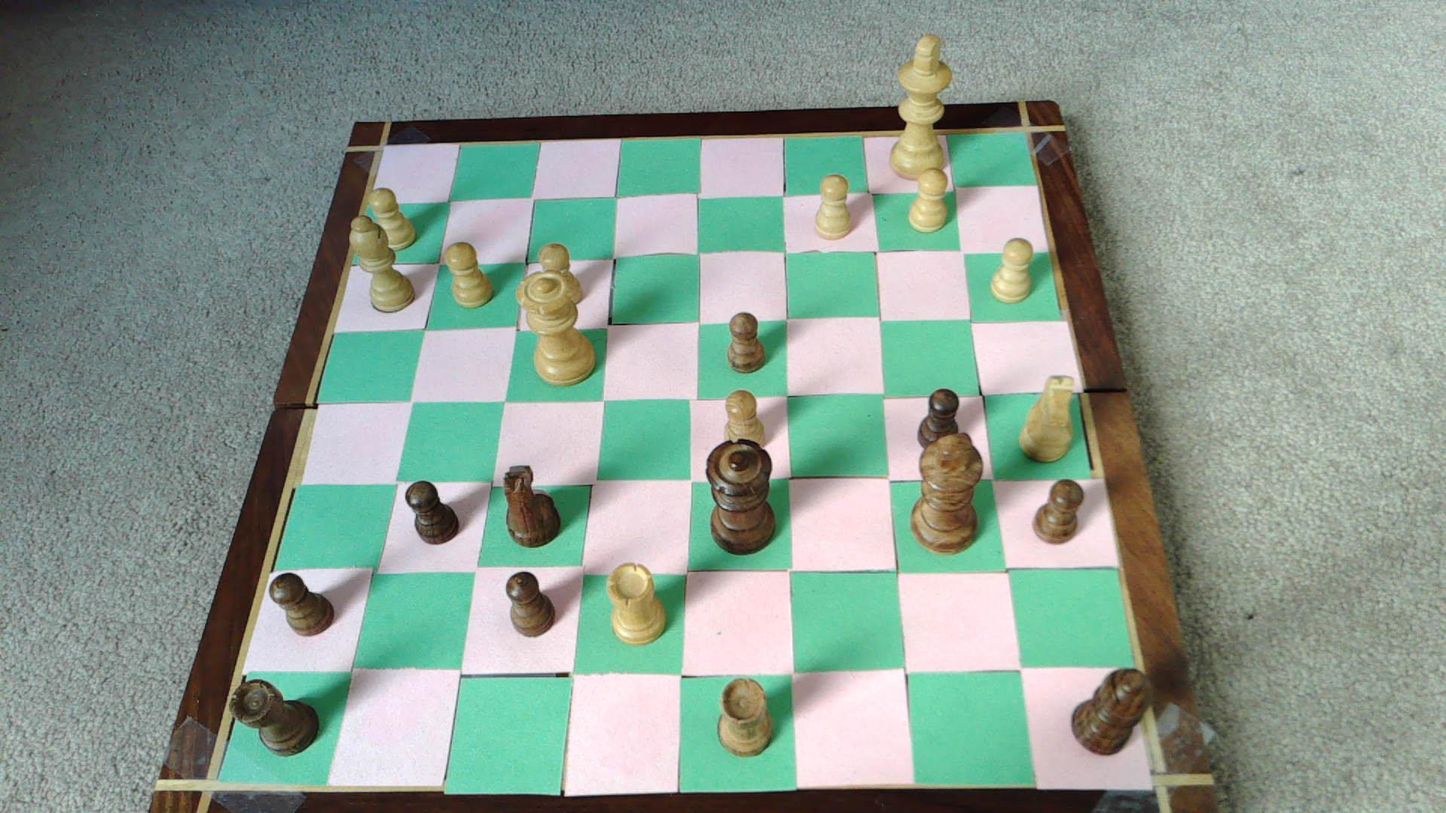dark_piece: (911, 434, 983, 553), (707, 440, 775, 553), (231, 680, 319, 754), (1072, 669, 1148, 753), (503, 465, 560, 547), (718, 676, 773, 755), (270, 572, 334, 635), (406, 481, 458, 544), (506, 571, 555, 636), (1032, 480, 1083, 542), (917, 388, 959, 452), (728, 311, 766, 372)
white_piece: (889, 33, 954, 180), (518, 273, 595, 385), (349, 214, 415, 312), (606, 562, 666, 644), (1019, 375, 1075, 462), (364, 188, 417, 251), (445, 242, 494, 307), (539, 243, 585, 305), (990, 238, 1033, 303), (907, 169, 949, 232), (814, 174, 852, 239), (726, 390, 767, 449)
